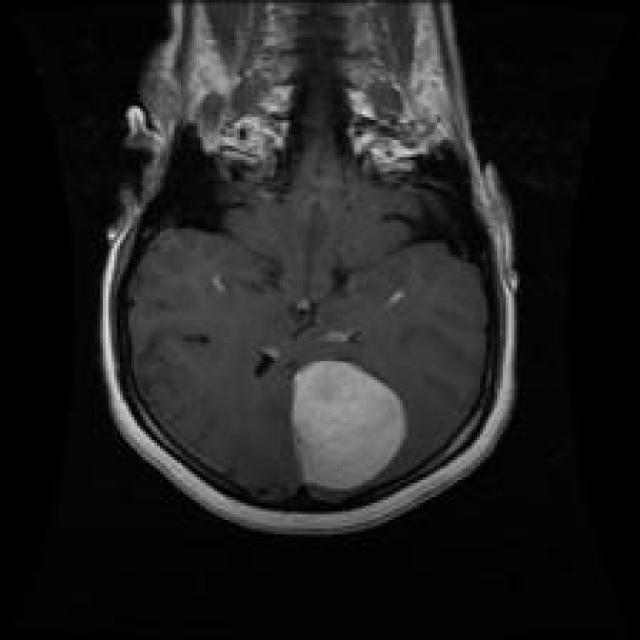meningioma_tumor: (276, 344, 419, 508)
